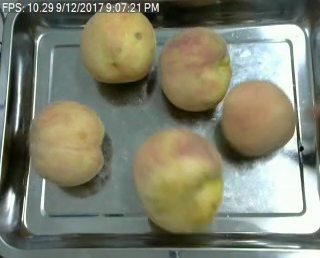Peach: (134, 126, 221, 231), (26, 100, 106, 188), (81, 1, 156, 84), (221, 77, 294, 159), (159, 26, 230, 110)
